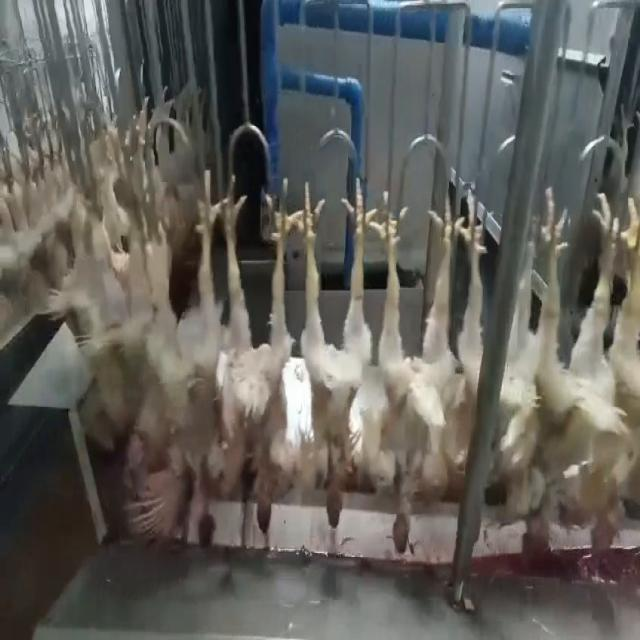chicken: (375, 186, 468, 561), (143, 180, 235, 542), (290, 176, 376, 526), (502, 188, 574, 560), (576, 192, 640, 557), (229, 177, 292, 535), (456, 180, 493, 421)
